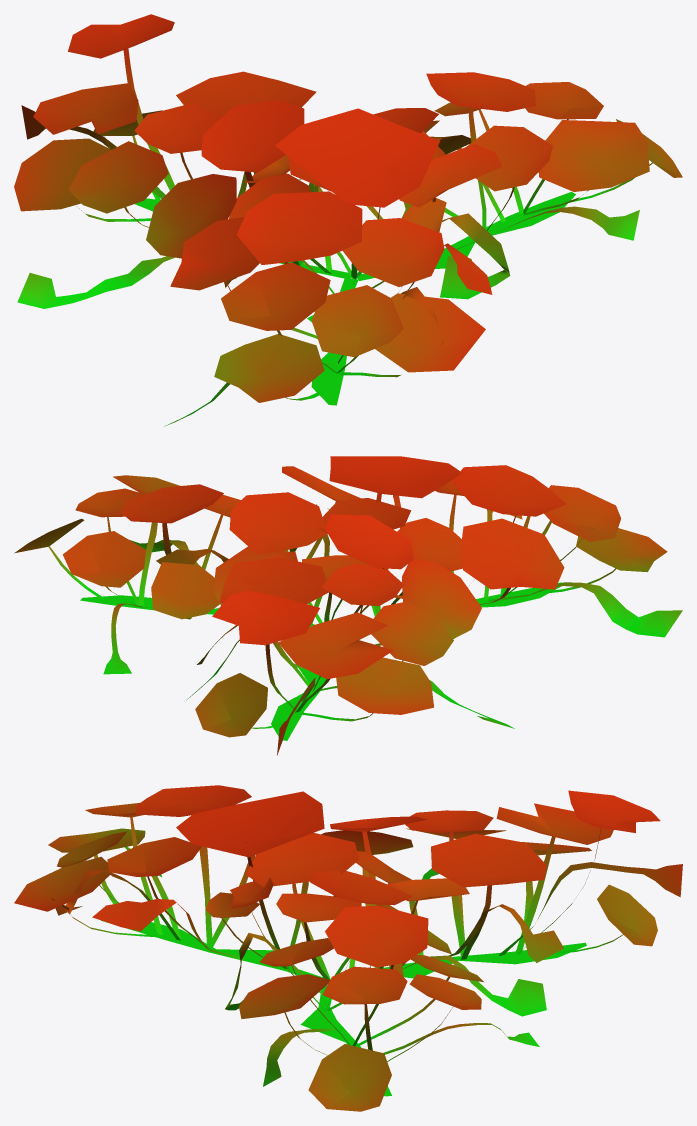
File: Var4_LOD0.fbx
3 renders of one model, top to bottom at view 1: azimuth 30°, elevation 25°; view 2: azimuth 150°, elevation 25°; view 3: azimuth 270°, elevation 25°, orthographic. The views are drawn at different scales.
Visible parts, largest first — view 1: _bd52_Var4_LOD0; view 2: _bd52_Var4_LOD0; view 3: _bd52_Var4_LOD0.
Part boxes in pixels (bbox=[...]): _bd52_Var4_LOD0: bbox=[14, 14, 682, 426]; _bd52_Var4_LOD0: bbox=[14, 456, 682, 755]; _bd52_Var4_LOD0: bbox=[14, 785, 682, 1111].
Bounding box in the file's own units: 55.33 × 15.25 × 55.97.
